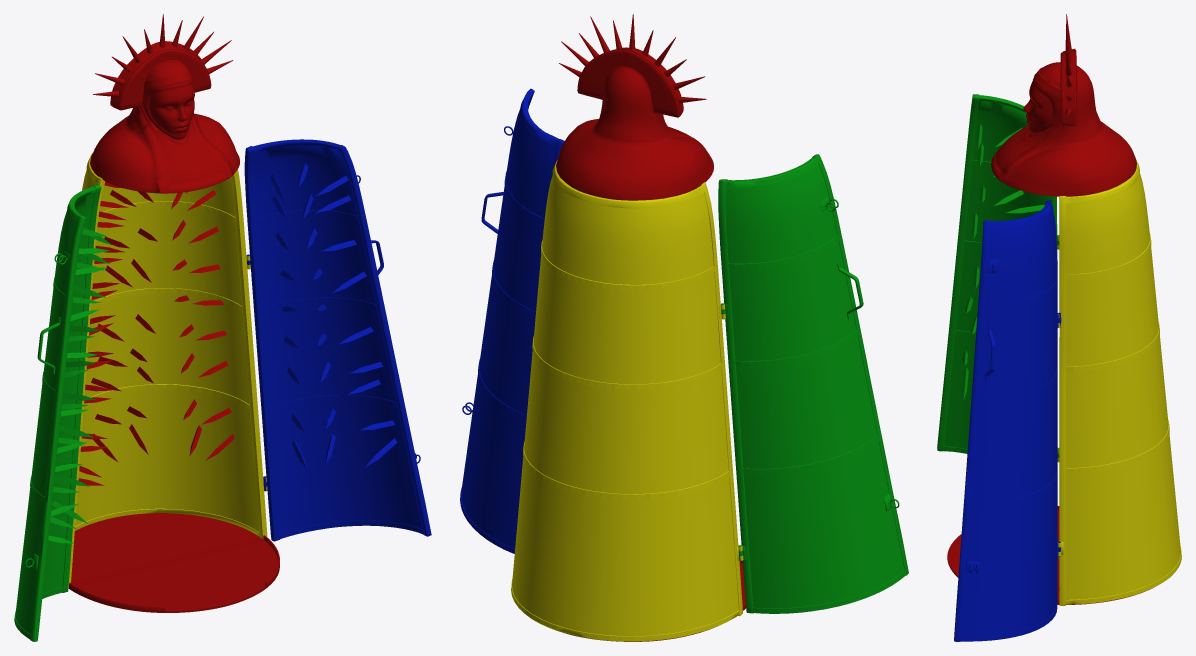
The model's file is iron_maiden_opened.fbx.
3 views of the same model, side by side, from view 1: azimuth 30°, elevation 25°; view 2: azimuth 150°, elevation 25°; view 3: azimuth 270°, elevation 25° (orthographic). The views are drawn at different scales.
Visible parts, largest first — view 1: iron_maiden_opened; view 2: iron_maiden_opened; view 3: iron_maiden_opened.
Part boxes in pixels (x1,y1,x2,y2): iron_maiden_opened: (14, 14, 431, 641); iron_maiden_opened: (460, 14, 908, 641); iron_maiden_opened: (937, 14, 1181, 641).
Size of the model in its own units: 185 by 98.32 by 238.
